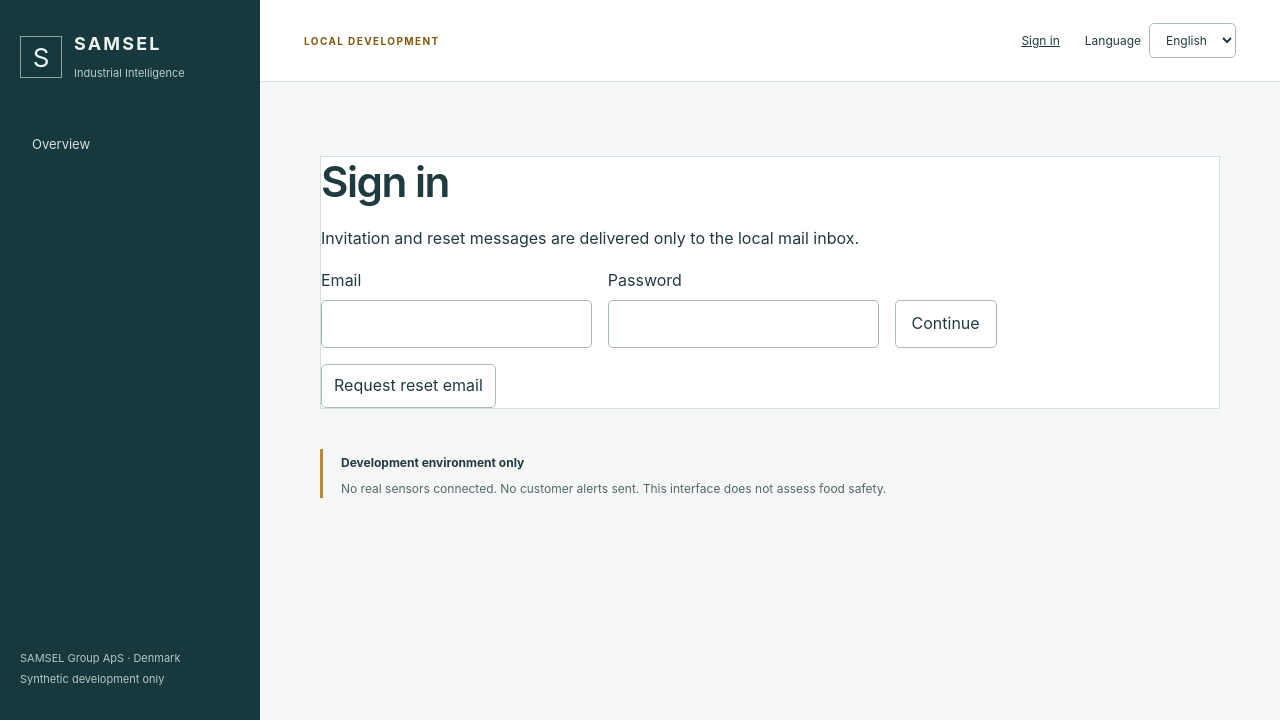
Test case: password login progresses to MFA without storing secrets
The image size is (1280, 720).
Type "owner@example.invalid" into the field labelled "Email". click: (456, 324)
box: [321,300,592,348]
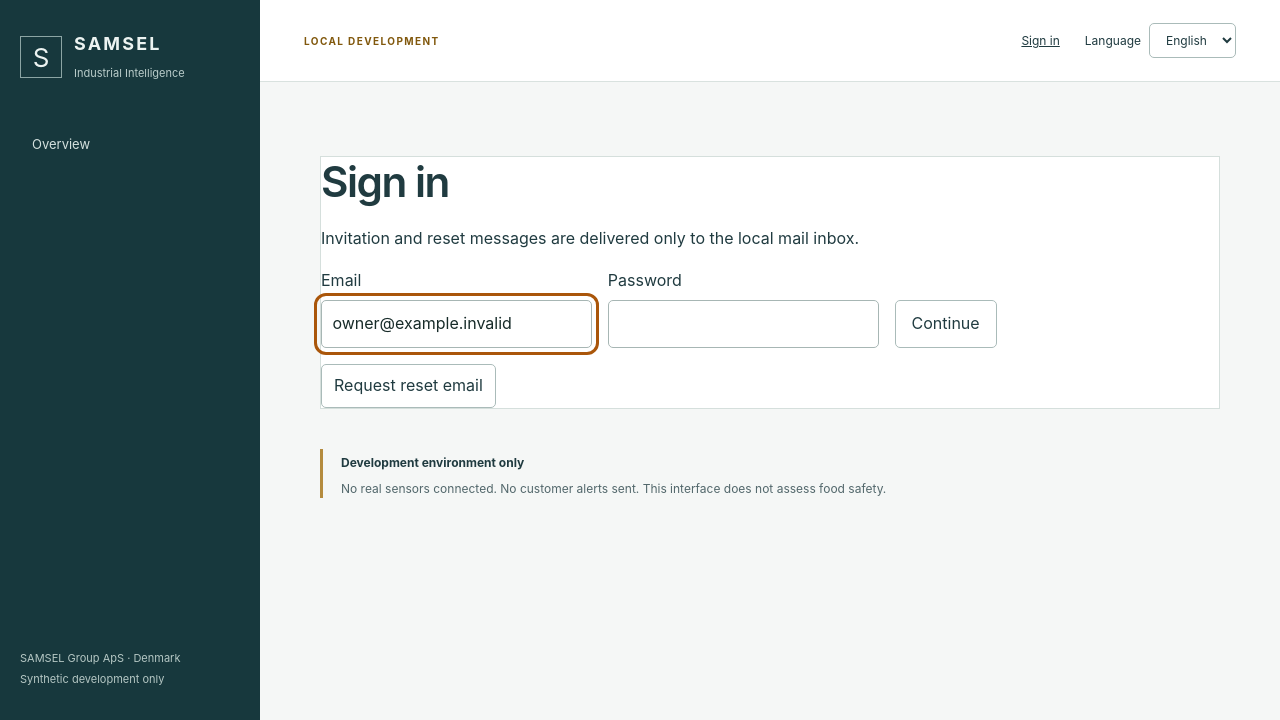
Type "test password proof" into the password field labelled "Password". click: (743, 324)
box: [608,300,879,348]
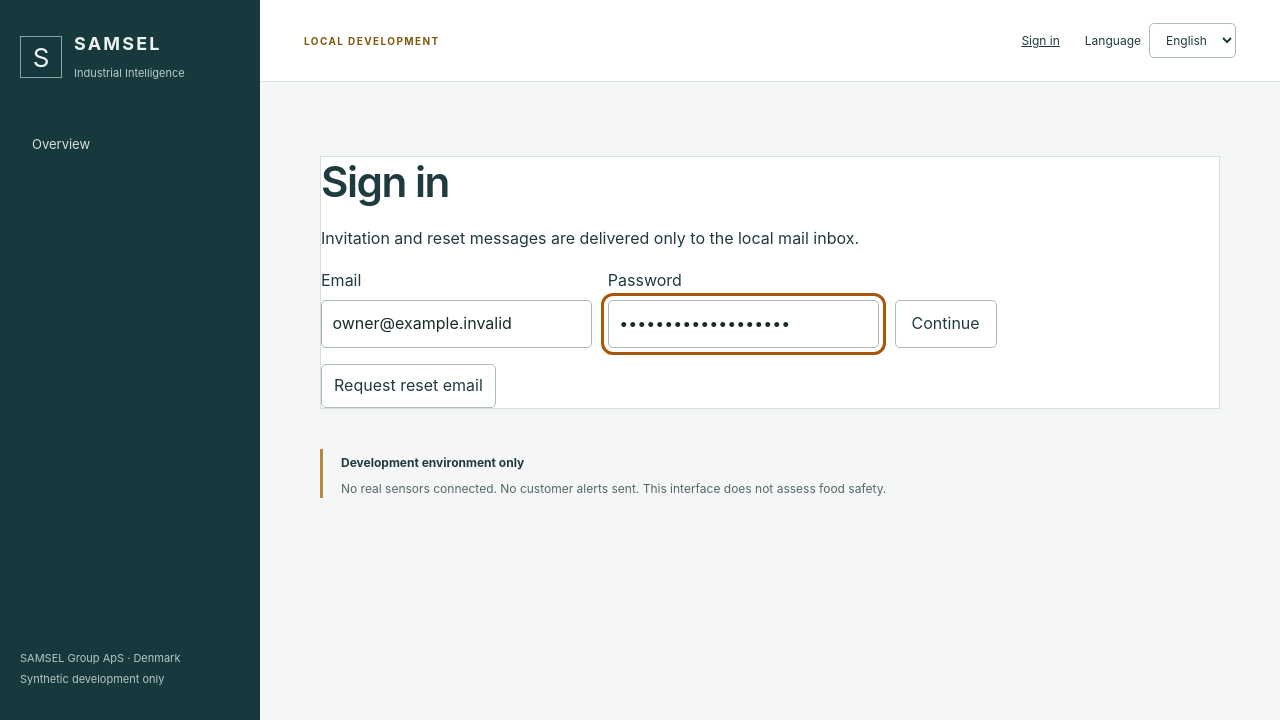
Click the button "Continue". click: (946, 324)
box: [895,300,997,348]
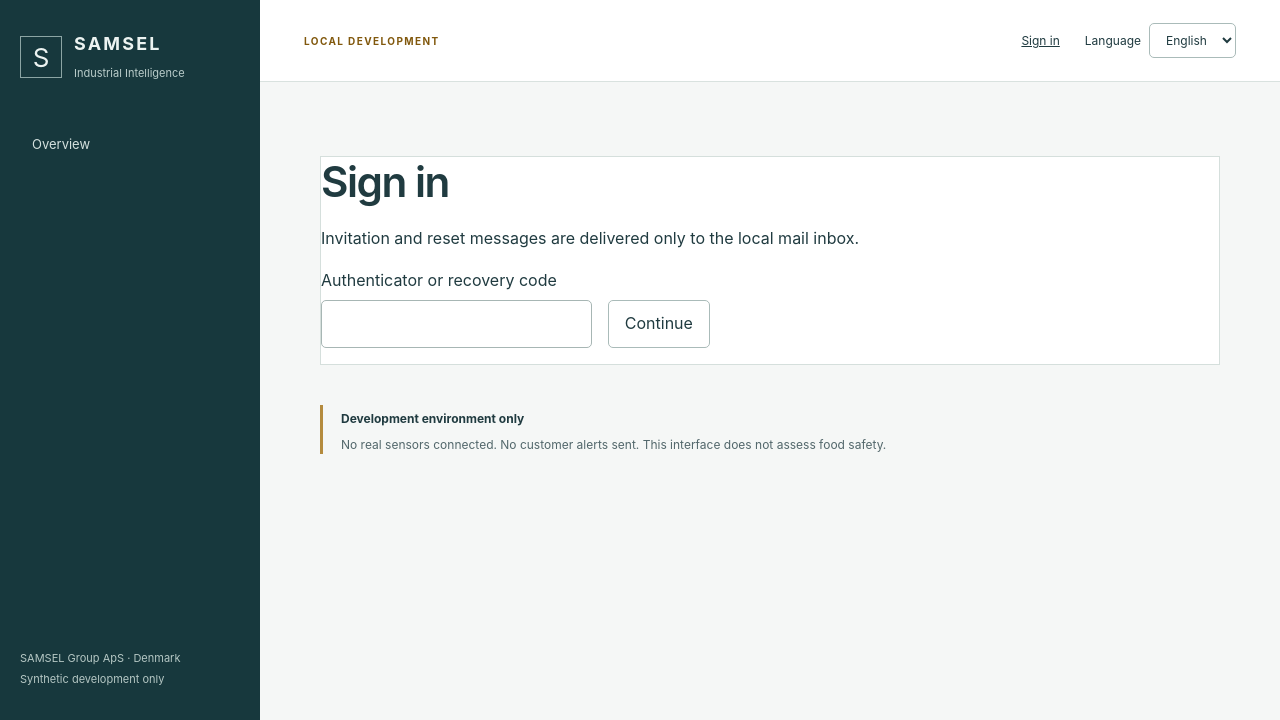
Expected: the field labelled "Authenticator or recovery code" is shown, [321,300,592,348]
Expected: the label labelled "Password" is gone
